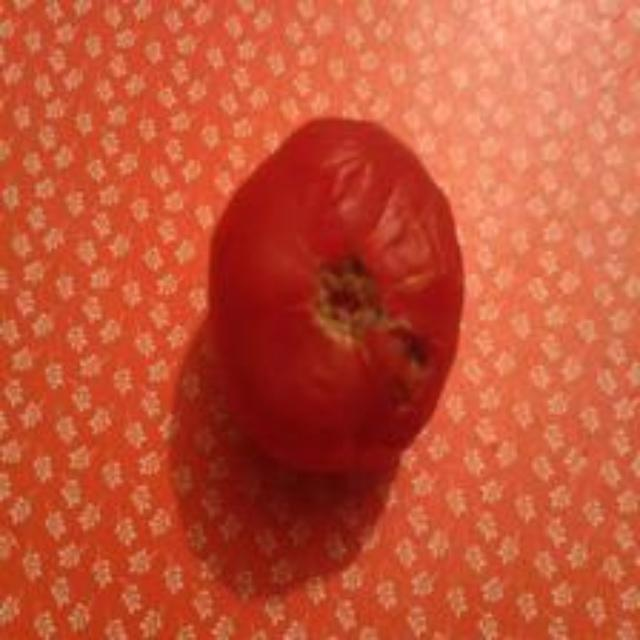defect: (203, 116, 470, 471)
